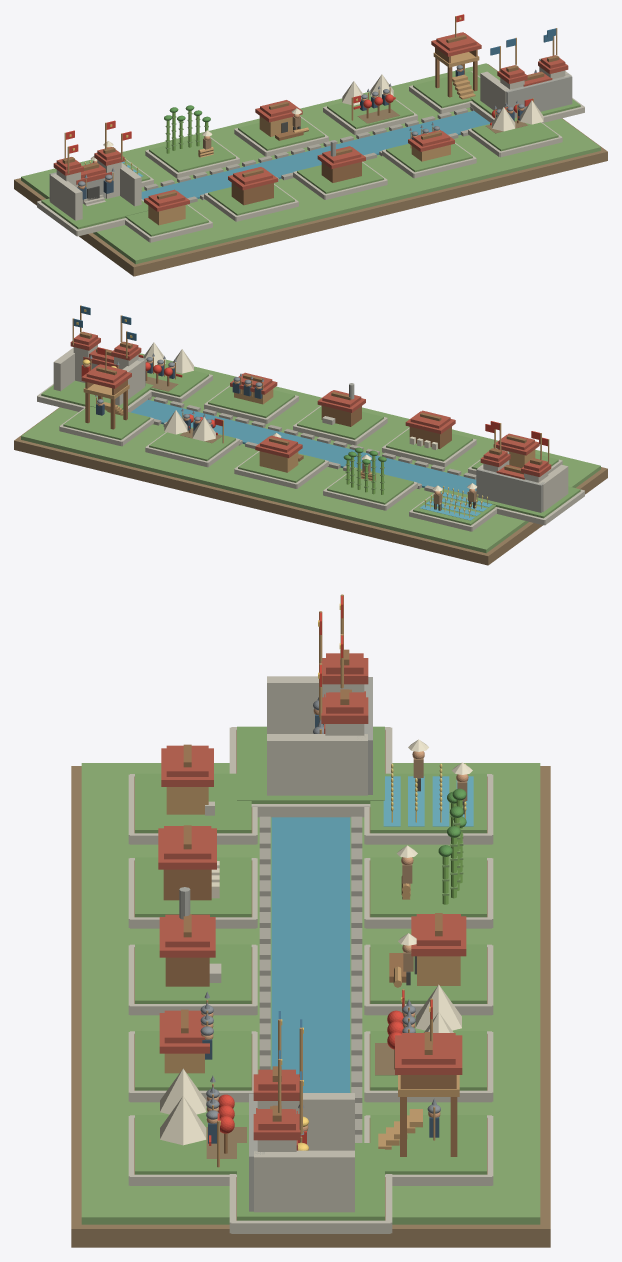
File: Board_Full_Demo.glb
3 views of the same model, one above another, from view 1: azimuth 30°, elevation 25°; view 2: azimuth 150°, elevation 25°; view 3: azimuth 270°, elevation 25° (orthographic). The views are drawn at different scales.
Parts seen in each view (by area): view 1: BoardGrass, BoardSoil, CentralRiver, 07_O_Quan_DichThanh_446, 02_O_RungTre_158, 06_O_Quan_DaiThanh_393, 04_O_DoanhTrai_358, 10_LoLuyen_321, 06_O_Quan_DaiThanh_399, 11_TraiHuanLuyen_333, 08_NhaNongDan_296, 09_NhaKho_307 (+26 smaller); view 2: BoardGrass, BoardSoil, CentralRiver, 06_O_Quan_DaiThanh_398, 05_O_ThapCanh_267, 02_O_RungTre_158, 04_O_DoanhTrai_232, 11_TraiHuanLuyen_333, 10_LoLuyen_321, 09_NhaKho_307, 03_O_XuongMoc_211, 07_O_Quan_DichThanh_441 (+24 smaller); view 3: BoardGrass, CentralRiver, BoardSoil, 07_O_Quan_DichThanh_447, 06_O_Quan_DaiThanh_400, 02_O_RungTre_158, 05_O_ThapCanh_267, 10_LoLuyen_321, 11_TraiHuanLuyen_333, 09_NhaKho_307, 08_NhaNongDan_296, 07_O_Quan_DichThanh_441 (+35 smaller).
Boxes of the visible parts, left/top/right/bottom form: BoardGrass: left=21, top=63, right=600, bottom=264; BoardSoil: left=14, top=64, right=607, bottom=276; CentralRiver: left=141, top=111, right=490, bottom=200; 07_O_Quan_DichThanh_446: left=504, top=74, right=572, bottom=117; 02_O_RungTre_158: left=149, top=136, right=235, bottom=172; 06_O_Quan_DaiThanh_393: left=41, top=196, right=148, bottom=229; 04_O_DoanhTrai_358: left=471, top=122, right=558, bottom=151; 10_LoLuyen_321: left=297, top=162, right=383, bottom=193; 06_O_Quan_DaiThanh_399: left=50, top=173, right=82, bottom=220; 11_TraiHuanLuyen_333: left=386, top=143, right=472, bottom=172; 08_NhaNongDan_296: left=125, top=204, right=208, bottom=236; 09_NhaKho_307: left=208, top=185, right=294, bottom=215; BoardGrass: left=21, top=353, right=600, bottom=553; BoardSoil: left=14, top=407, right=607, bottom=565; CentralRiver: left=131, top=400, right=476, bottom=494; 06_O_Quan_DaiThanh_398: left=476, top=467, right=544, bottom=512; 05_O_ThapCanh_267: left=63, top=406, right=150, bottom=440; 02_O_RungTre_158: left=327, top=467, right=413, bottom=504; 04_O_DoanhTrai_232: left=149, top=427, right=235, bottom=461; 11_TraiHuanLuyen_333: left=208, top=386, right=294, bottom=417; 10_LoLuyen_321: left=297, top=406, right=383, bottom=439; 09_NhaKho_307: left=386, top=428, right=472, bottom=461; 03_O_XuongMoc_211: left=238, top=451, right=324, bottom=482; 07_O_Quan_DichThanh_441: left=41, top=380, right=153, bottom=409; BoardGrass: left=81, top=763, right=540, bottom=1224; CentralRiver: left=271, top=817, right=350, bottom=1092; BoardSoil: left=71, top=766, right=550, bottom=1247; 07_O_Quan_DichThanh_447: left=254, top=1150, right=354, bottom=1212; 06_O_Quan_DaiThanh_400: left=267, top=734, right=367, bottom=795; 02_O_RungTre_158: left=370, top=857, right=486, bottom=917; 05_O_ThapCanh_267: left=370, top=1115, right=486, bottom=1174; 10_LoLuyen_321: left=135, top=944, right=251, bottom=1003; 11_TraiHuanLuyen_333: left=135, top=1031, right=251, bottom=1090; 09_NhaKho_307: left=135, top=857, right=251, bottom=917; 08_NhaNongDan_296: left=135, top=773, right=251, bottom=833; 07_O_Quan_DichThanh_441: left=237, top=1143, right=384, bottom=1220.
Size of the model in its own units: 17.16 by 3.05 by 7.
